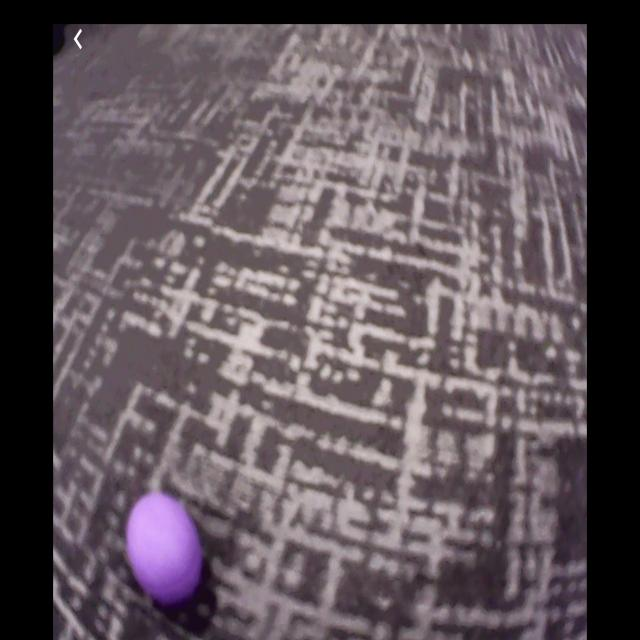ball: (128, 495, 203, 608)
